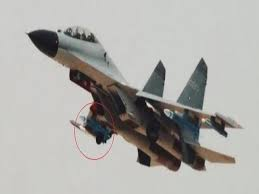maybay_muctieu: (27, 23, 244, 176)
ten_lua: (72, 113, 118, 146)
